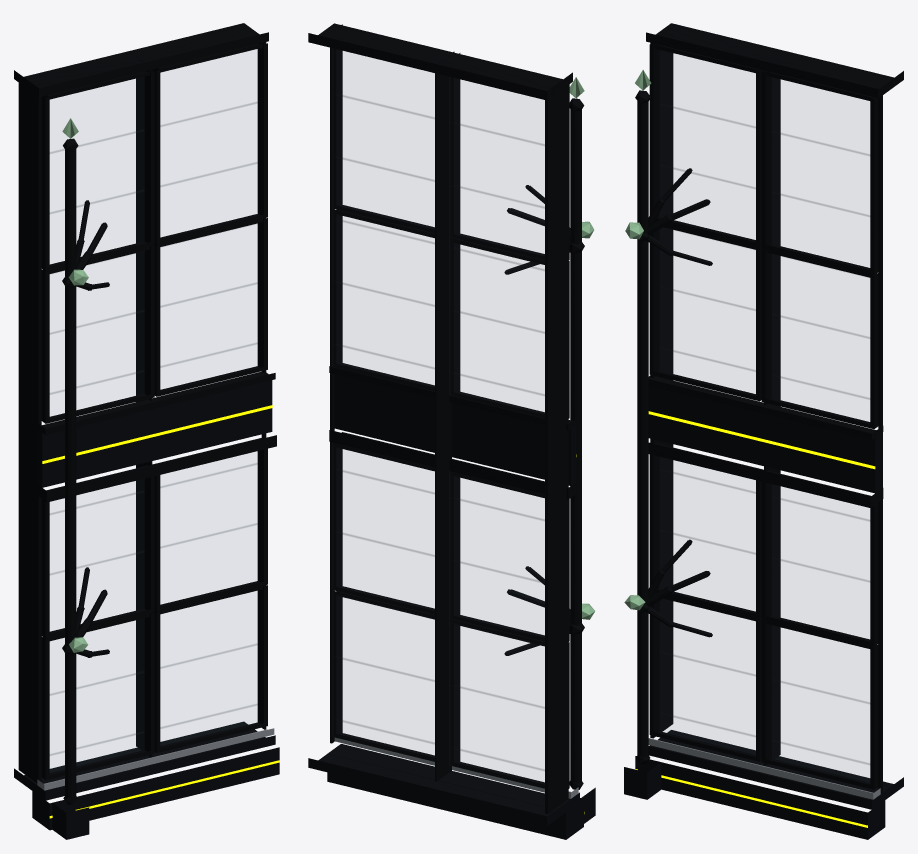
3 views of the same model, side by side, from view 1: azimuth 30°, elevation 25°; view 2: azimuth 150°, elevation 25°; view 3: azimuth 330°, elevation 25° (orthographic). The views are drawn at different scales.
Parts seen in each view (by area): view 1: Frame, Spandrel_Band, Plinth_Ledge, Branch_Trunk, Slate_Sill, Trunk_Pedestal, Spandrel_Court_Line, Glass_21, Fork_Leaves, Plinth_Court_Line, Glass_31, Glass_01 (+4 smaller); view 2: Frame, Spandrel_Band, Plinth_Ledge, Branch_Trunk, Glass_21, Glass_20, Glass_01, Glass_00, Slate_Sill, Glass_31, Glass_11, Glass_30 (+2 smaller); view 3: Frame, Spandrel_Band, Plinth_Ledge, Branch_Trunk, Slate_Sill, Trunk_Pedestal, Spandrel_Court_Line, Glass_21, Fork_Leaves, Glass_20, Plinth_Court_Line, Glass_01 (+5 smaller).
Part boxes in pixels (x1,y1,x2,y2): Frame: [14, 23, 276, 783]; Spandrel_Band: [37, 380, 272, 487]; Plinth_Ledge: [14, 721, 279, 830]; Branch_Trunk: [62, 138, 109, 804]; Slate_Sill: [37, 728, 274, 790]; Trunk_Pedestal: [52, 803, 89, 839]; Spandrel_Court_Line: [42, 405, 272, 463]; Glass_21: [160, 224, 257, 367]; Fork_Leaves: [62, 118, 88, 652]; Plinth_Court_Line: [49, 760, 279, 818]; Glass_31: [160, 101, 257, 187]; Glass_01: [160, 643, 257, 728]; Frame: [308, 23, 581, 813]; Spandrel_Band: [334, 374, 576, 485]; Plinth_Ledge: [308, 744, 583, 839]; Branch_Trunk: [504, 98, 584, 789]; Glass_21: [332, 210, 434, 369]; Glass_20: [449, 239, 544, 396]; Glass_01: [332, 591, 434, 744]; Glass_00: [449, 620, 544, 771]; Slate_Sill: [334, 737, 578, 798]; Glass_31: [332, 48, 434, 208]; Glass_11: [332, 443, 434, 589]; Glass_30: [449, 77, 544, 237]; Frame: [646, 23, 903, 793]; Spandrel_Band: [648, 386, 880, 493]; Plinth_Ledge: [635, 730, 903, 839]; Branch_Trunk: [635, 90, 712, 764]; Slate_Sill: [648, 738, 880, 799]; Trunk_Pedestal: [624, 762, 661, 799]; Spandrel_Court_Line: [648, 411, 875, 469]; Glass_21: [772, 254, 869, 399]; Fork_Leaves: [624, 70, 651, 610]; Glass_20: [660, 227, 755, 372]; Plinth_Court_Line: [635, 769, 867, 827]; Glass_01: [772, 678, 869, 765].
Size of what is drawn, in the model's own units: 4 by 12.2 by 1.66.
Materials: 7 (3 with a texture image).
